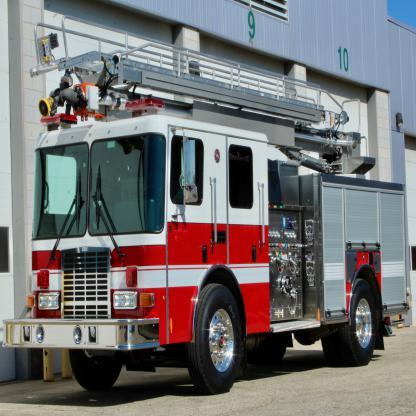fire-truck: (3, 18, 416, 397)
